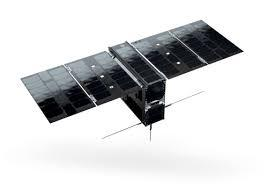antenna: (164, 88, 210, 109), (100, 121, 144, 141), (148, 123, 155, 146)
body: (108, 37, 169, 129)
solar: (17, 49, 144, 126), (128, 17, 252, 81), (110, 39, 163, 86)
